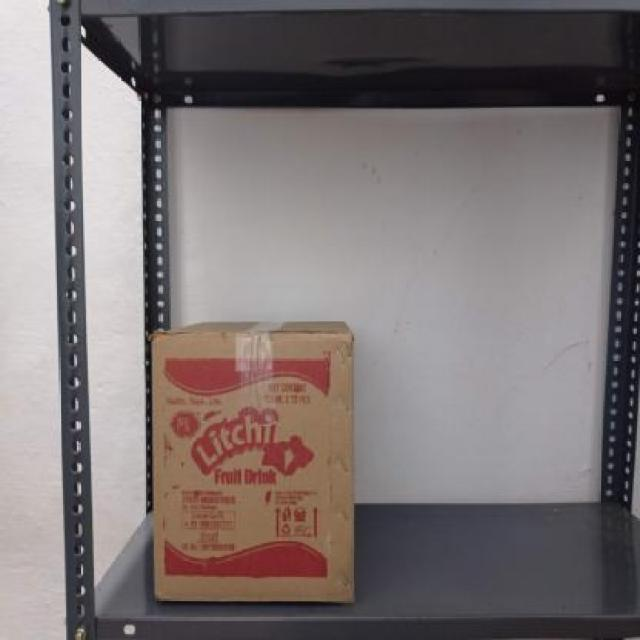box: (150, 332, 356, 606)
